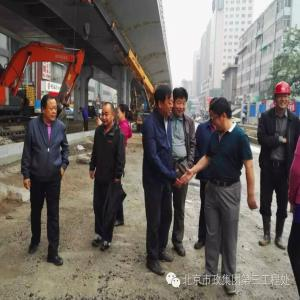none: (210, 97, 233, 132), (155, 84, 175, 119), (40, 93, 59, 123), (173, 88, 189, 117), (100, 102, 116, 128), (117, 104, 130, 123), (79, 107, 84, 114)
red: (274, 82, 293, 112)
